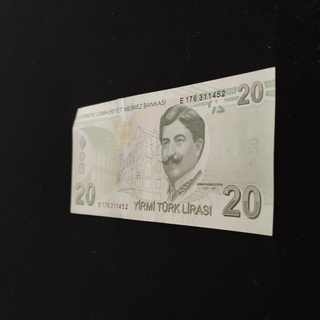20TLBack: (71, 66, 276, 237)
